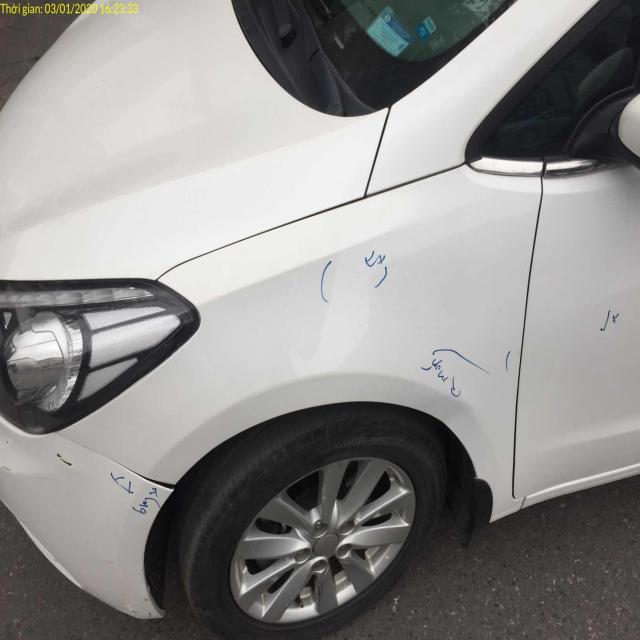Cabossage: (36, 316, 88, 417)
Dechirure: (72, 435, 181, 496)
Rayure: (429, 376, 495, 464)
